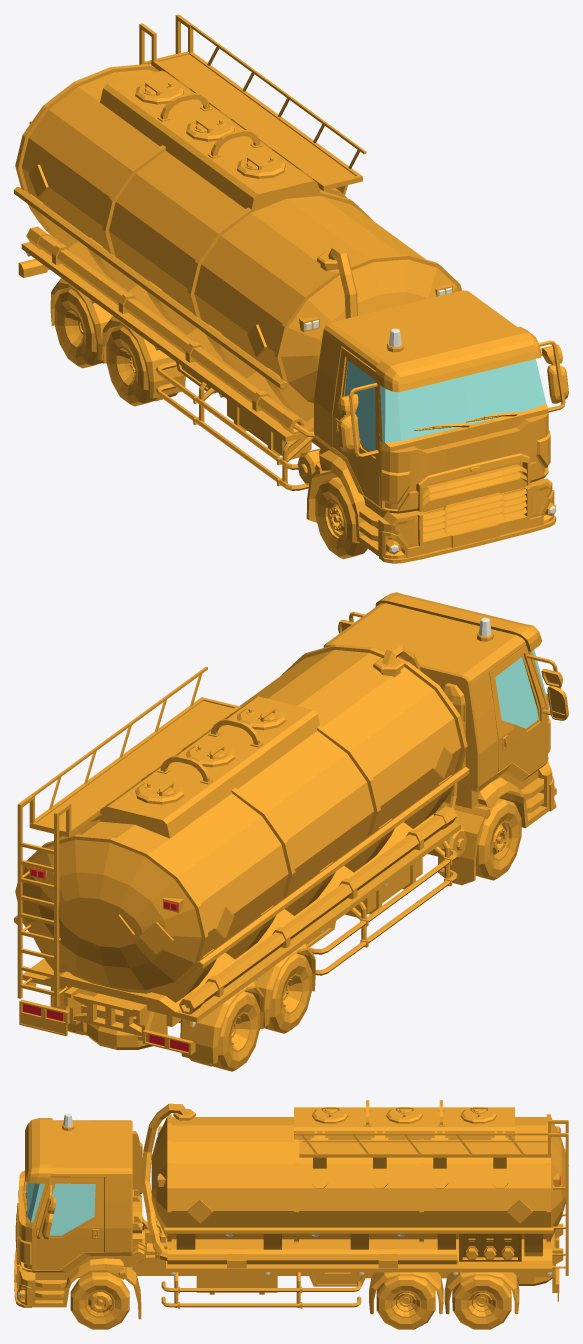
Rendered from SM_Car_Truck_Modern_Cistern.fbx.
3 views of the same model, one above another, from view 1: azimuth 30°, elevation 25°; view 2: azimuth 150°, elevation 25°; view 3: azimuth 270°, elevation 25° (orthographic). The views are drawn at different scales.
Visible parts, largest first — view 1: truck-modern-cistern-base, truck-modern-cistern-door-right, truck-modern-cistern-wheel-rfr, truck-modern-cistern-wheel-rmi, truck-modern-cistern-wheel-rba, truck-modern-cistern-door-left; view 2: truck-modern-cistern-base, truck-modern-cistern-door-right, truck-modern-cistern-wheel-rfr, truck-modern-cistern-wheel-rba, truck-modern-cistern-wheel-rmi; view 3: truck-modern-cistern-base, truck-modern-cistern-door-left, truck-modern-cistern-wheel-lfr, truck-modern-cistern-wheel-lmi, truck-modern-cistern-wheel-lba.
Part boxes in pixels (box(x1,y1,x2,y2)): truck-modern-cistern-base: box(14, 14, 556, 563); truck-modern-cistern-door-right: box(332, 347, 380, 506); truck-modern-cistern-wheel-rfr: box(315, 477, 367, 559); truck-modern-cistern-wheel-rmi: box(106, 326, 177, 406); truck-modern-cistern-wheel-rba: box(54, 288, 103, 368); truck-modern-cistern-door-left: box(539, 340, 568, 412); truck-modern-cistern-base: box(14, 592, 556, 1063); truck-modern-cistern-door-right: box(489, 645, 568, 774); truck-modern-cistern-wheel-rfr: box(475, 798, 521, 880); truck-modern-cistern-wheel-rba: box(189, 991, 260, 1071); truck-modern-cistern-wheel-rmi: box(263, 953, 312, 1033); truck-modern-cistern-base: box(14, 1100, 568, 1319); truck-modern-cistern-door-left: box(35, 1177, 103, 1270); truck-modern-cistern-wheel-lfr: box(70, 1272, 129, 1329); truck-modern-cistern-wheel-lmi: box(376, 1275, 435, 1329); truck-modern-cistern-wheel-lba: box(452, 1275, 511, 1329).
Bounding box in the file's own units: 3.28 × 3.73 × 9.51.
